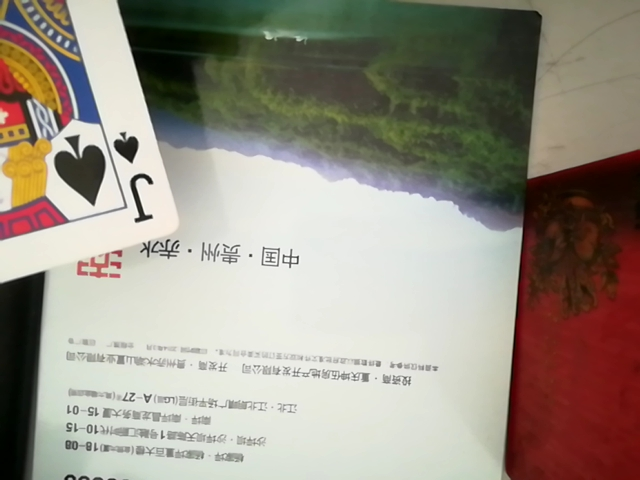ht j: (0, 0, 180, 335)
